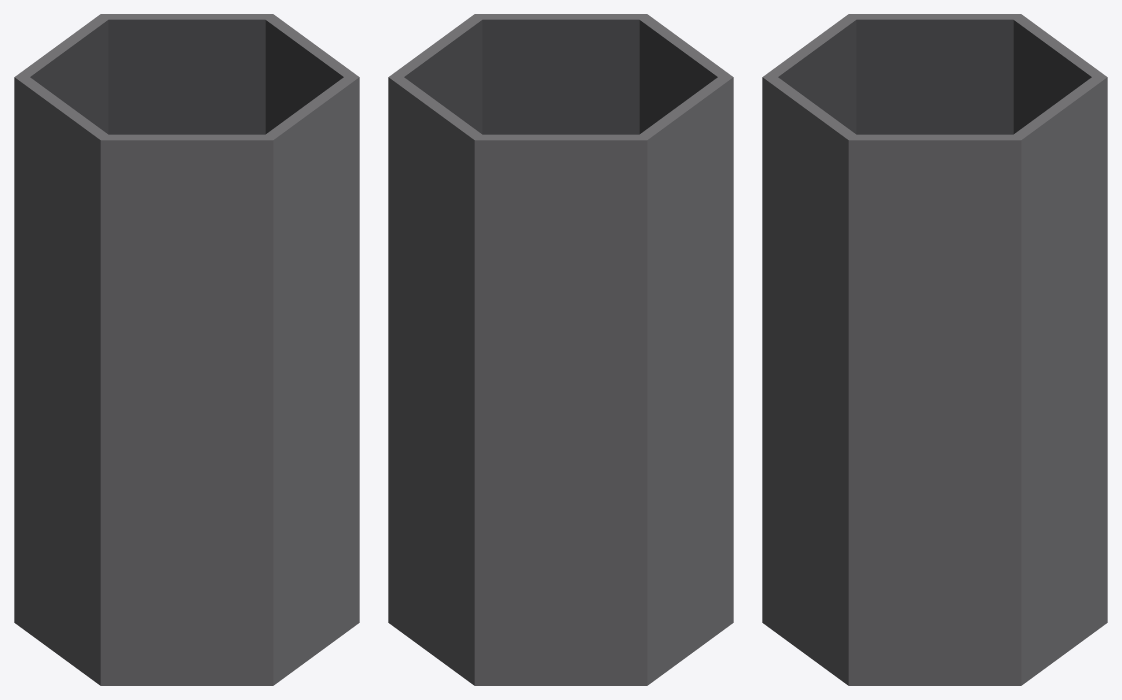
The model's file is Tubo Abajo.fbx.
3 views of the same model, side by side, from view 1: azimuth 30°, elevation 25°; view 2: azimuth 150°, elevation 25°; view 3: azimuth 270°, elevation 25° (orthographic).
Parts seen in each view (by area): view 1: pCylinder9; view 2: pCylinder9; view 3: pCylinder9.
Boxes of the visible parts, bbox=[...] form: pCylinder9: bbox=[14, 14, 359, 685]; pCylinder9: bbox=[388, 14, 733, 685]; pCylinder9: bbox=[762, 14, 1107, 685].
Size of the model in its own units: 1.82 by 3.67 by 2.11.
